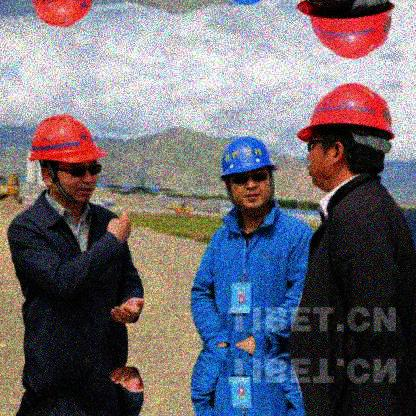helmet: (298, 82, 397, 186), (28, 117, 107, 207), (219, 138, 274, 214)
